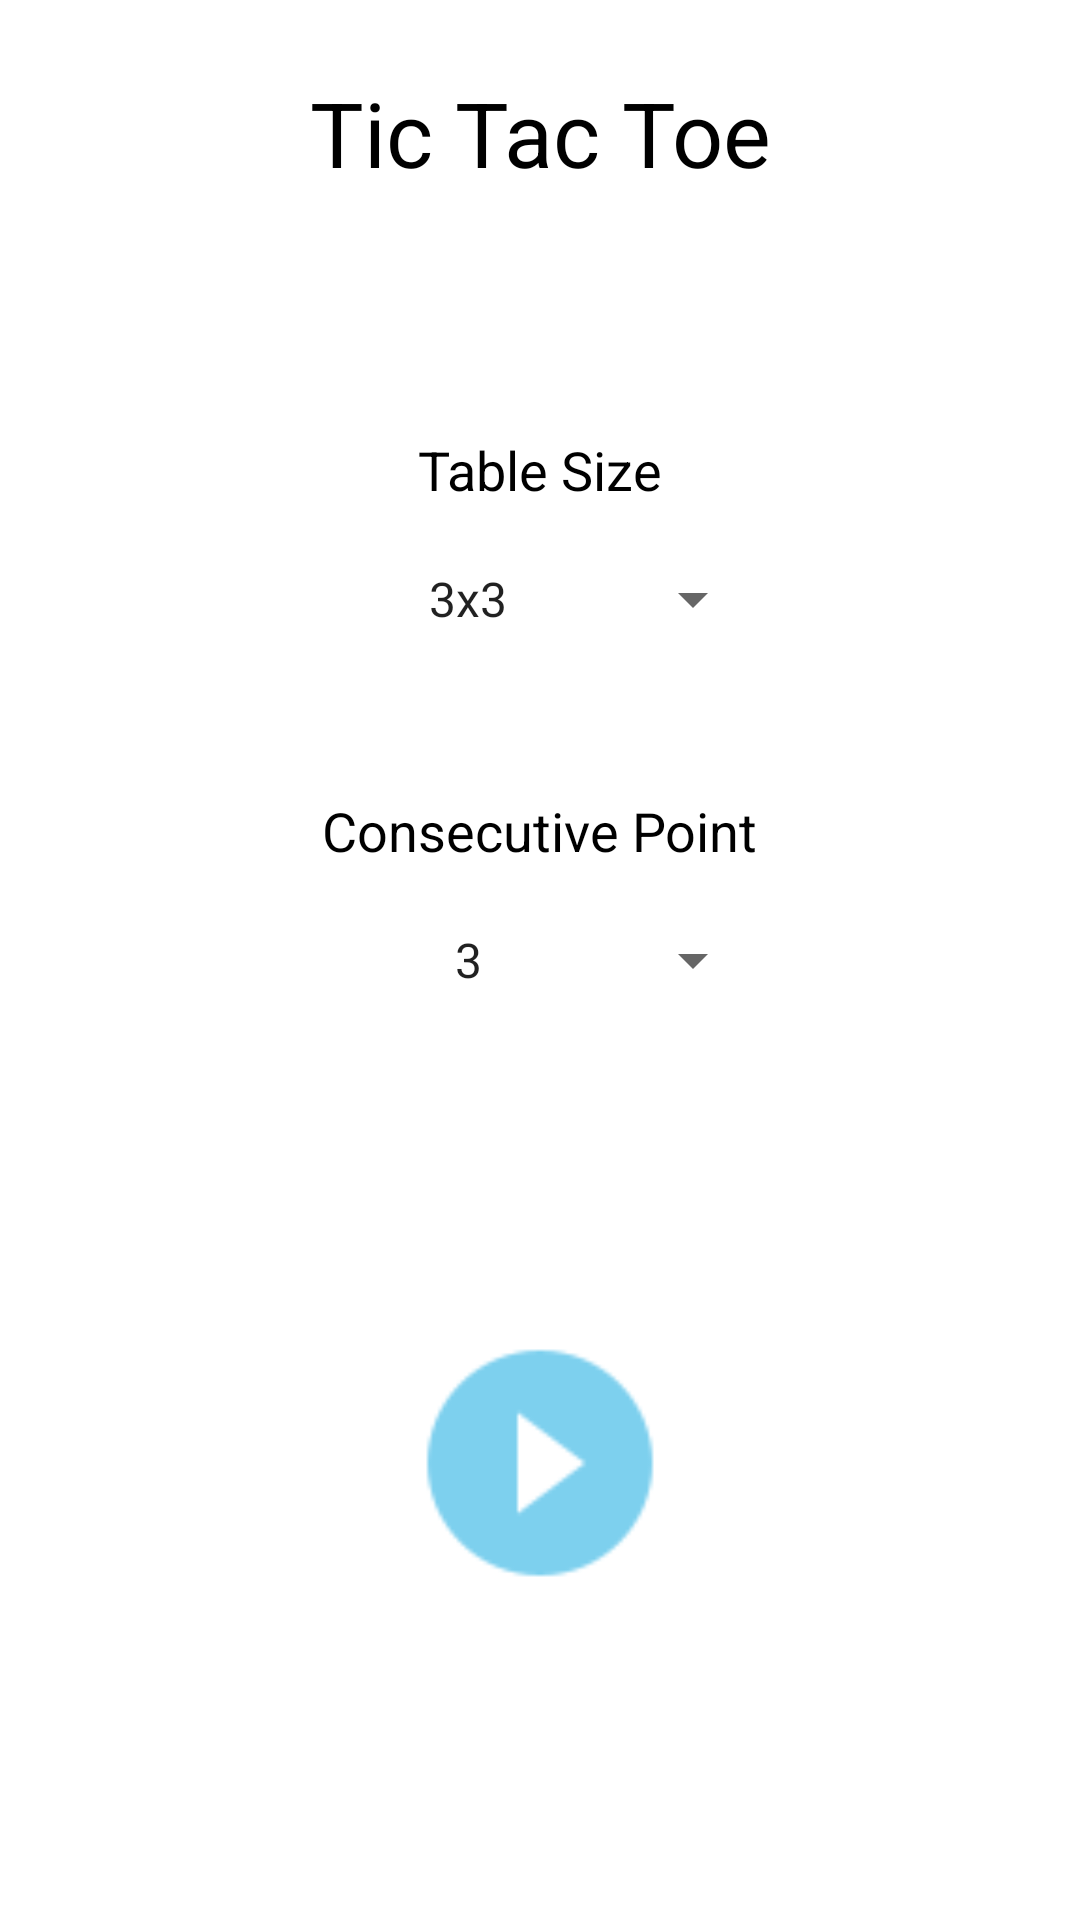

Icons on this 1080 x 1920 Android screen, each with the point to tap as point (x, y):
play game: point (540, 1463)
